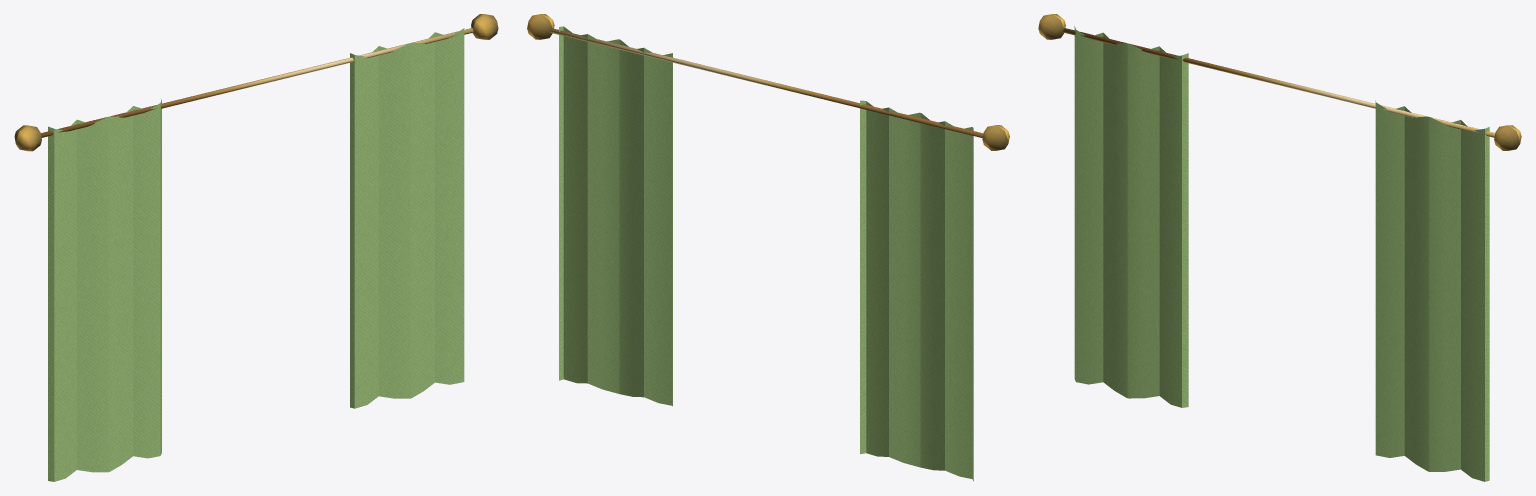
Rendered from Straight_Curtains_10.FBX.
3 views of the same model, side by side, from view 1: azimuth 30°, elevation 25°; view 2: azimuth 150°, elevation 25°; view 3: azimuth 330°, elevation 25° (orthographic).
Parts seen in each view (by area): view 1: Straight_Curtain; view 2: Straight_Curtain; view 3: Straight_Curtain.
Part boxes in pixels (left/top/right/bottom): Straight_Curtain: left=14, top=14, right=498, bottom=481; Straight_Curtain: left=527, top=14, right=1009, bottom=481; Straight_Curtain: left=1038, top=14, right=1521, bottom=481.
Size of the model in its own units: 582 by 421 by 29.96.
